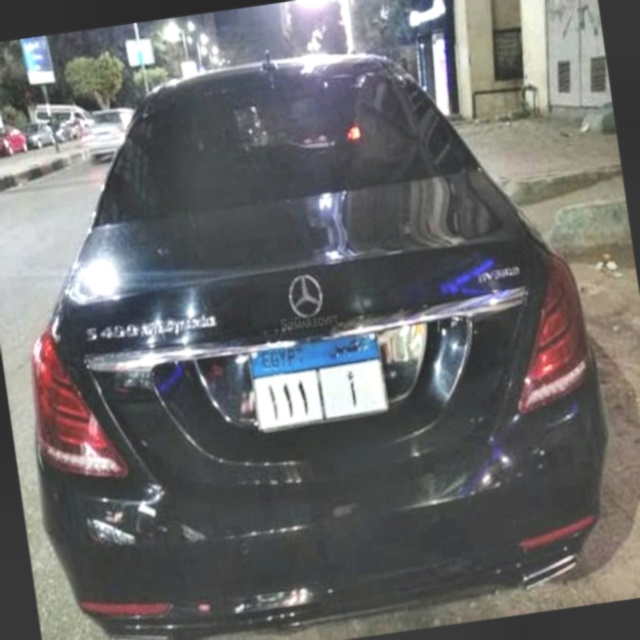License Plate: (244, 328, 393, 438)
